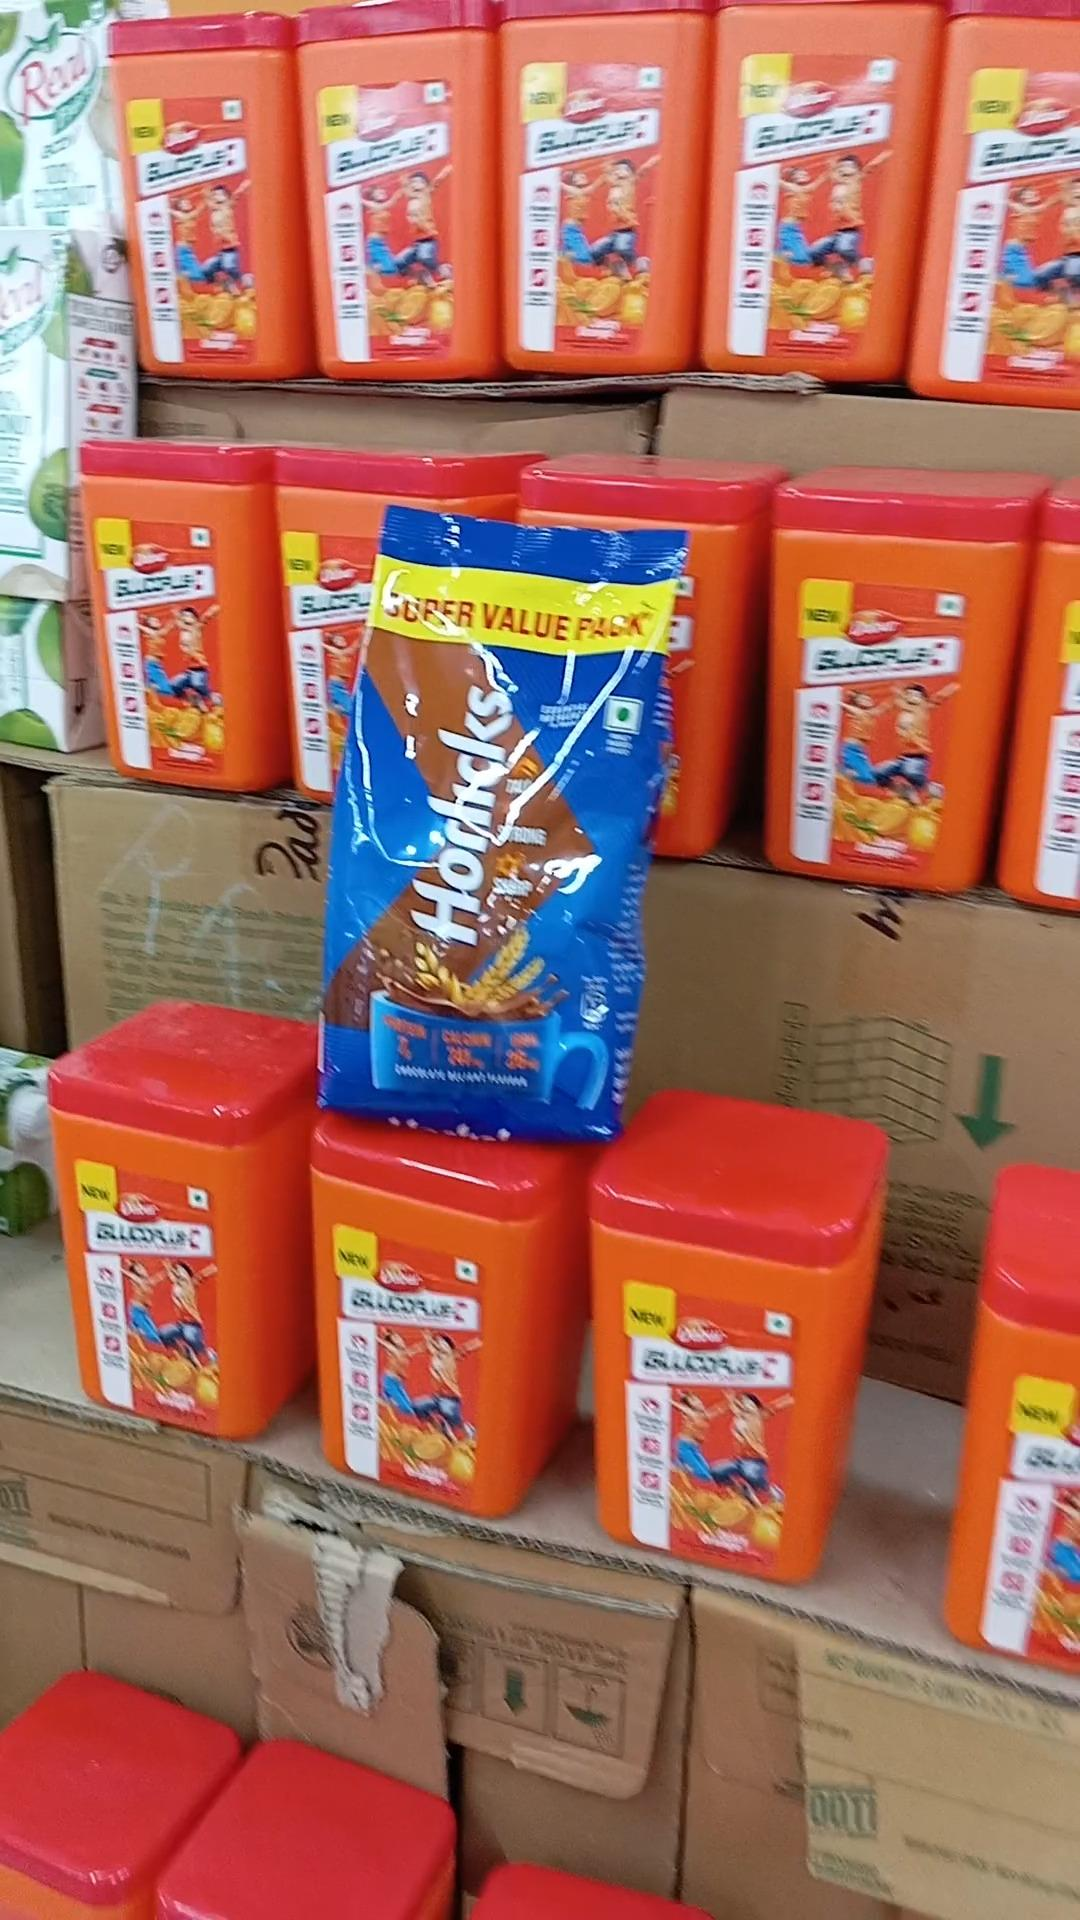HORLICK_CHOCOLATE_750_G_POUCH: (357, 514, 615, 1131)
